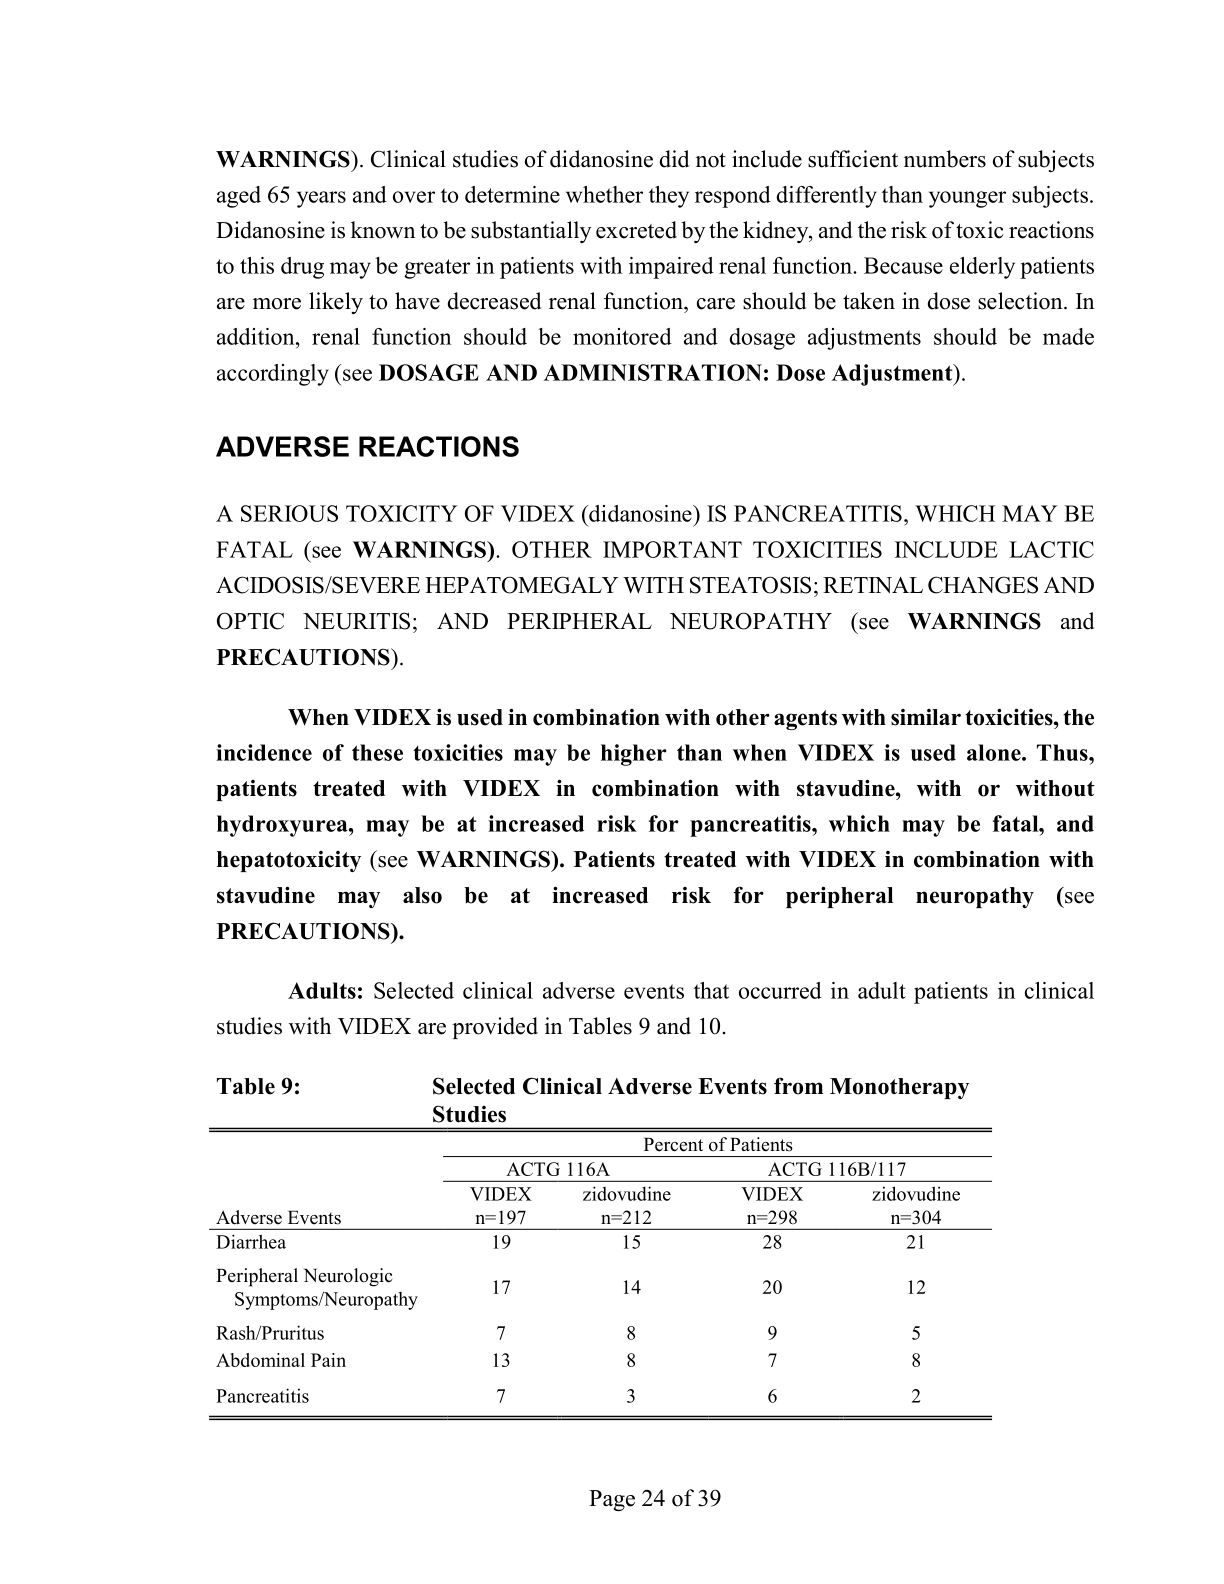partial_lined_merged_cells: (210, 1126, 996, 1421)
